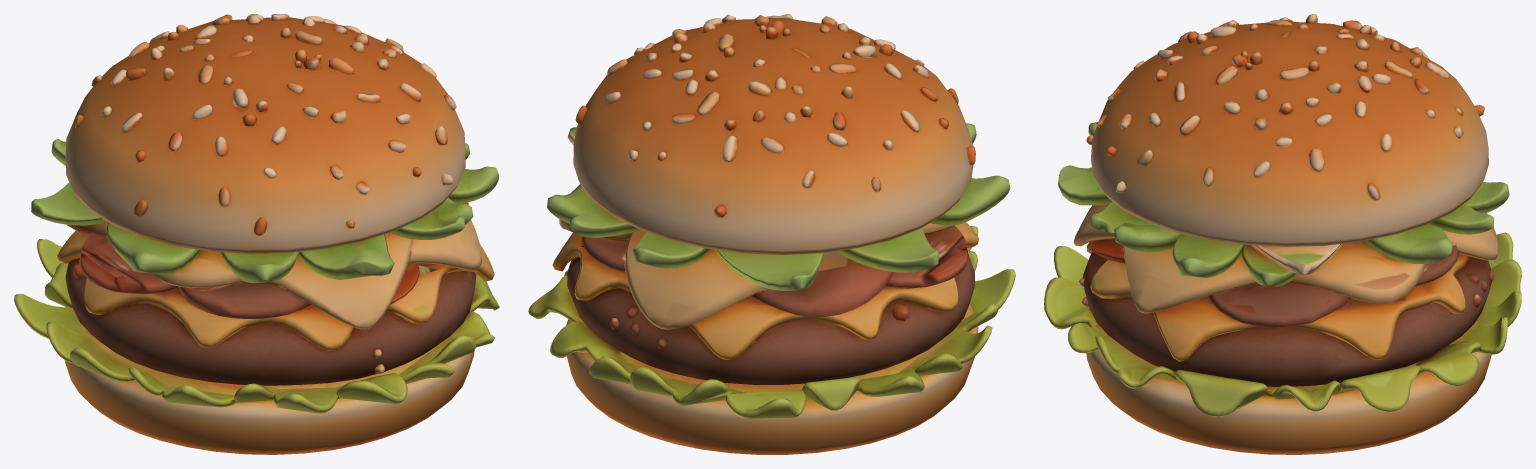
Rendered from Stylish_High-Detail_Burger.glb.
3 renders of one model, left to right at view 1: azimuth 30°, elevation 25°; view 2: azimuth 150°, elevation 25°; view 3: azimuth 270°, elevation 25°, orthographic.
Parts seen in each view (by area): view 1: Stylish_High-Detail_Burger; view 2: Stylish_High-Detail_Burger; view 3: Stylish_High-Detail_Burger.
Boxes of the visible parts, x1,y1,x2,y2 form: Stylish_High-Detail_Burger: [14, 14, 499, 454]; Stylish_High-Detail_Burger: [528, 14, 1015, 454]; Stylish_High-Detail_Burger: [1044, 14, 1521, 454].
Bounding box in the file's own units: 0.9673 × 0.7612 × 0.9995.
1 material, 1 textured.
